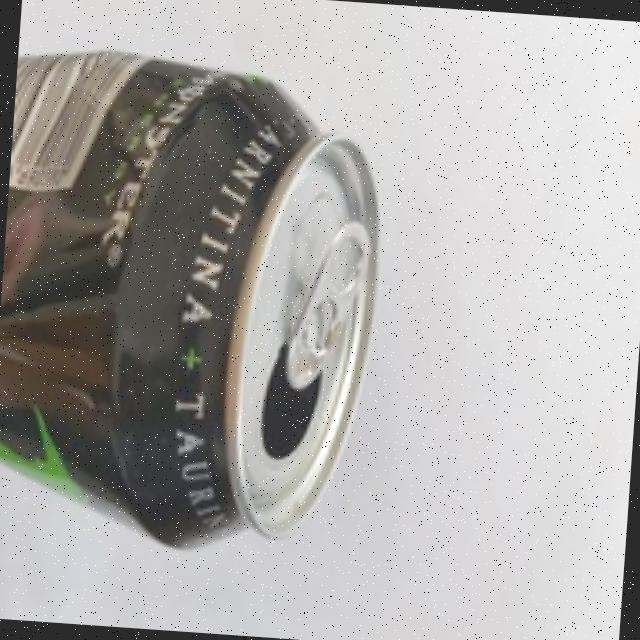Metal: (0, 35, 390, 565)
